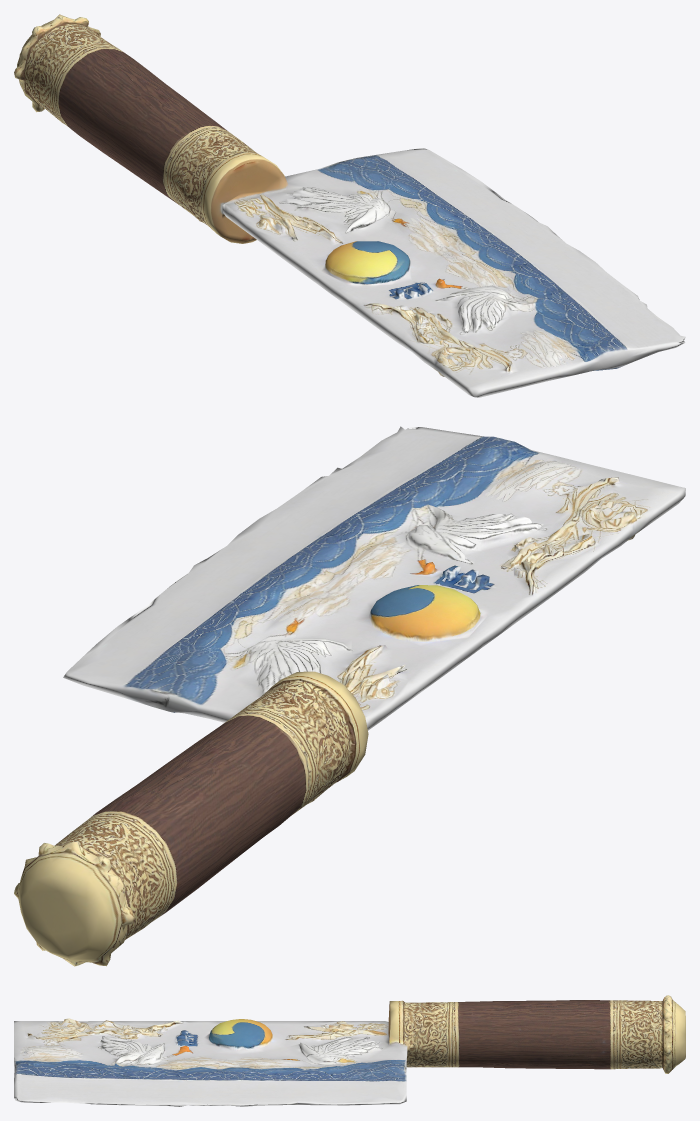
Rendered from Knife.fbx.
The picture shows the model from 3 angles, top to bottom: view 1: azimuth 30°, elevation 25°; view 2: azimuth 150°, elevation 25°; view 3: azimuth 270°, elevation 25°; orthographic projection. The views are drawn at different scales.
Visible parts, largest first — view 1: tripo_node_ca571be4; view 2: tripo_node_ca571be4; view 3: tripo_node_ca571be4.
Boxes of the visible parts, x1=… form: tripo_node_ca571be4: x1=14, y1=14, x2=685, y2=397; tripo_node_ca571be4: x1=14, y1=426, x2=685, y2=966; tripo_node_ca571be4: x1=14, y1=995, x2=685, y2=1106.
Size of the model in its own units: 0.308 by 0.1166 by 0.9998.
Materials: 1 (1 with a texture image).
